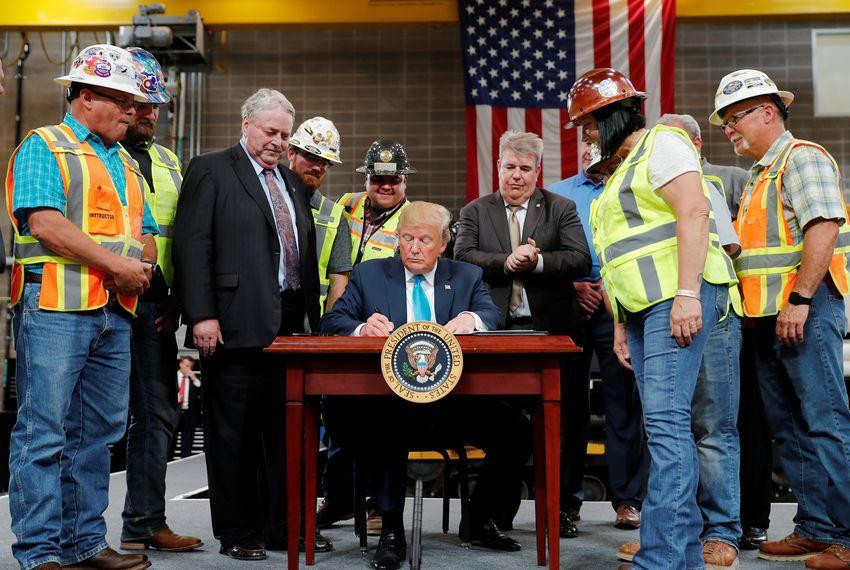helmet: (564, 70, 651, 130), (710, 70, 797, 127), (51, 45, 140, 98), (129, 47, 178, 105), (289, 118, 346, 166), (355, 140, 420, 178)
